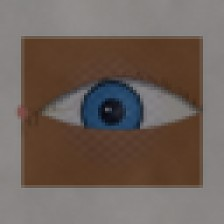pterygium_lesion: (20, 86, 86, 138)
